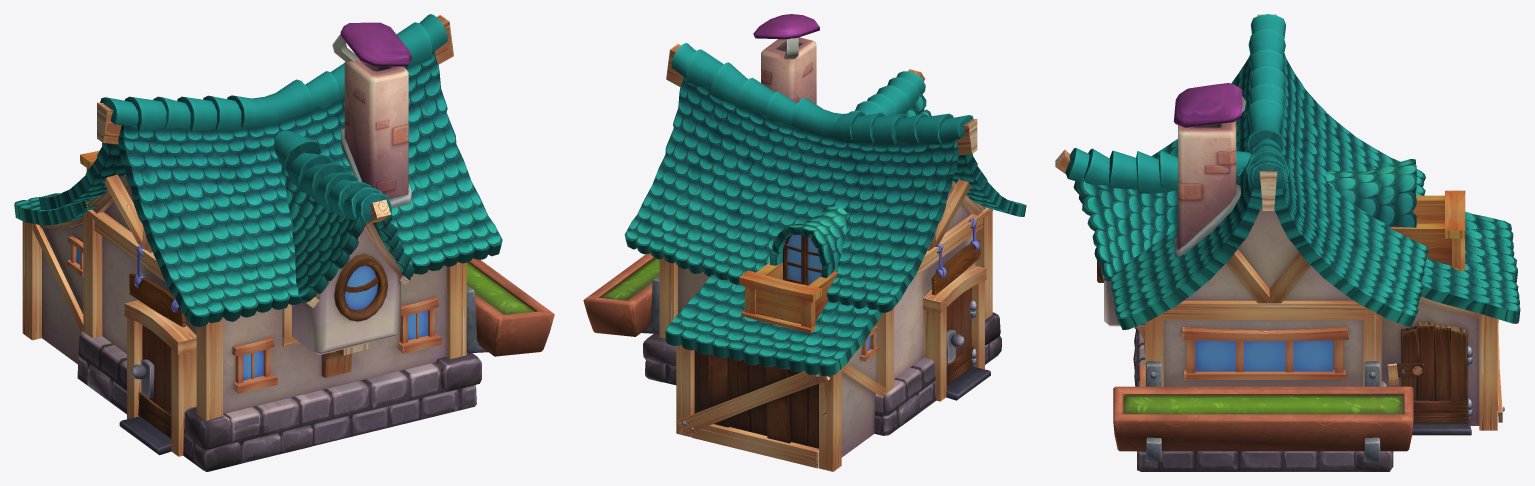
The model's file is SE_House_01.fbx.
3 renders of one model, left to right at view 1: azimuth 30°, elevation 25°; view 2: azimuth 150°, elevation 25°; view 3: azimuth 270°, elevation 25°, orthographic. The views are drawn at different scales.
Parts seen in each view (by area): view 1: SE_House_01; view 2: SE_House_01; view 3: SE_House_01.
Boxes of the visible parts, left/top/right/bottom form: SE_House_01: left=14, top=14, right=554, bottom=471; SE_House_01: left=583, top=14, right=1026, bottom=471; SE_House_01: left=1055, top=14, right=1520, bottom=471.
Size of the model in its own units: 10.34 by 9.55 by 11.39.
